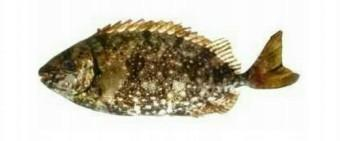fish: (41, 19, 297, 115)
